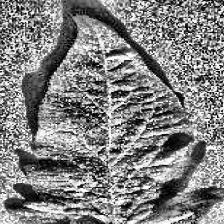spider mites: (4, 15, 224, 223)
